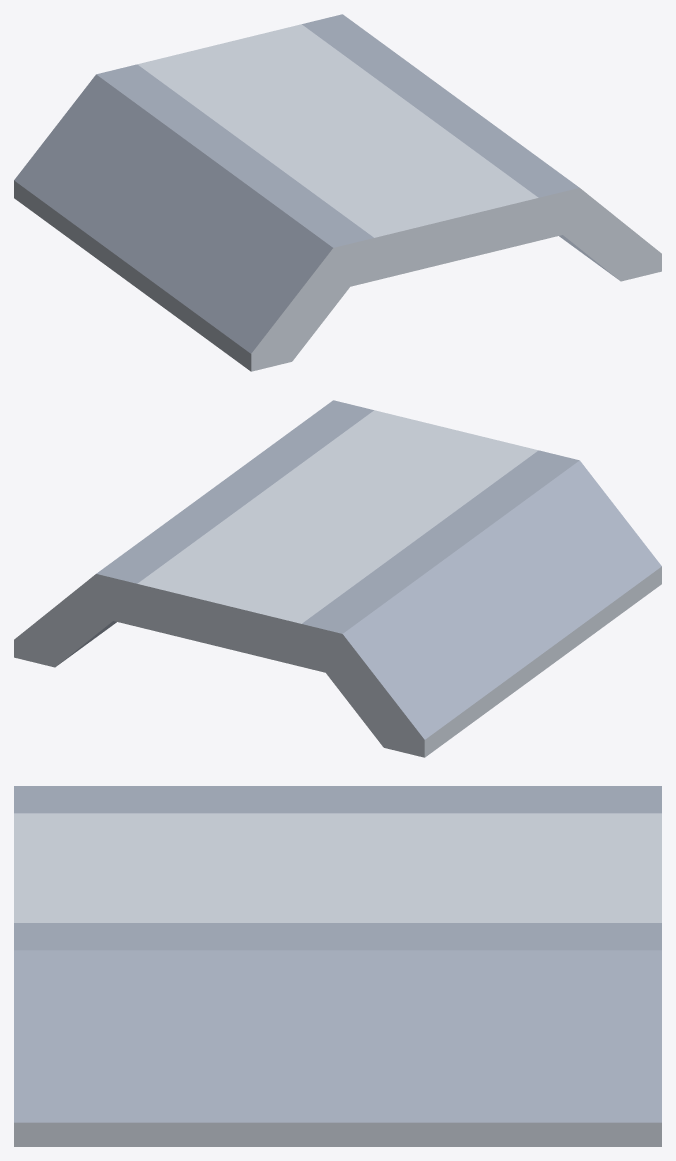
File: corridor_roof.glb
The picture shows the model from 3 angles, top to bottom: view 1: azimuth 30°, elevation 25°; view 2: azimuth 150°, elevation 25°; view 3: azimuth 270°, elevation 25°; orthographic projection. The views are drawn at different scales.
Parts seen in each view (by area): view 1: corridor_roof; view 2: corridor_roof; view 3: corridor_roof.
Boxes of the visible parts, left/top/right/bottom form: corridor_roof: left=14, top=14, right=661, bottom=371; corridor_roof: left=14, top=400, right=661, bottom=757; corridor_roof: left=14, top=786, right=661, bottom=1146.
Size of the model in its own units: 1 by 0.2414 by 1.
